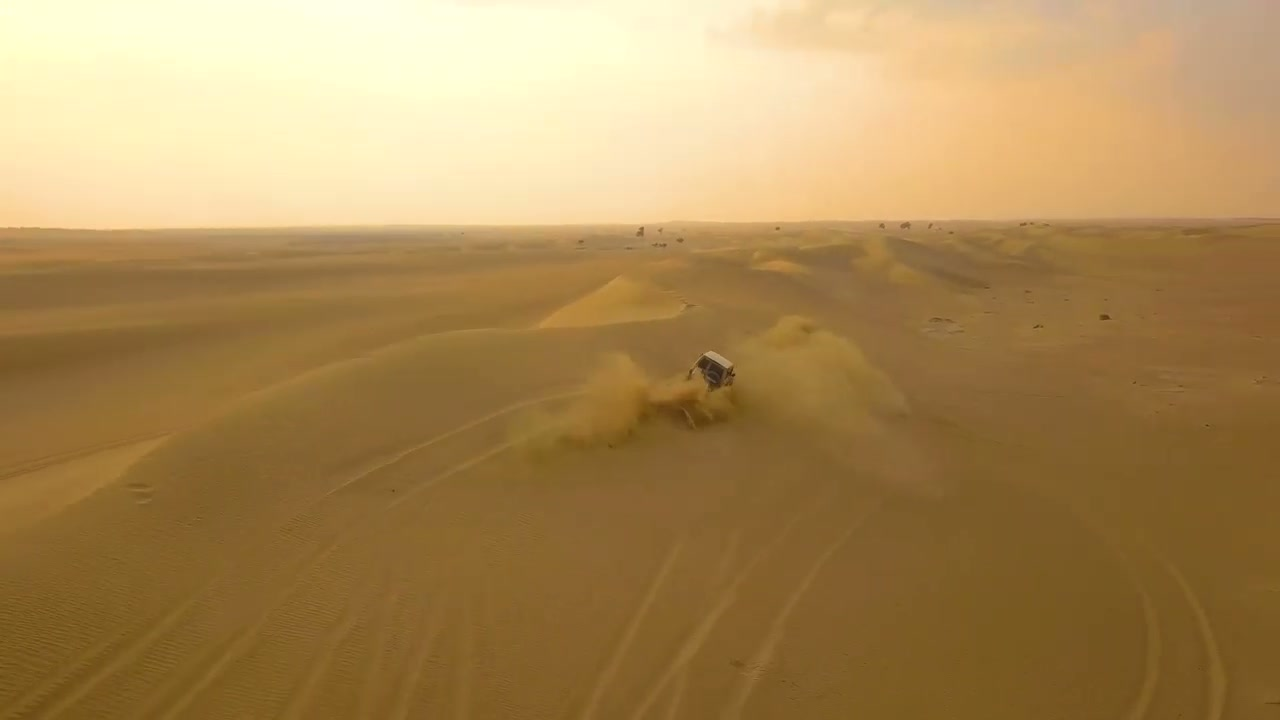vehicle_track: (154, 514, 392, 719), (631, 484, 837, 719), (990, 476, 1167, 719), (721, 499, 880, 719), (301, 392, 574, 515), (132, 571, 322, 718), (580, 538, 684, 719), (1135, 537, 1227, 719), (278, 597, 361, 719), (0, 430, 179, 480), (355, 580, 406, 718), (383, 604, 444, 719), (708, 530, 741, 591)
